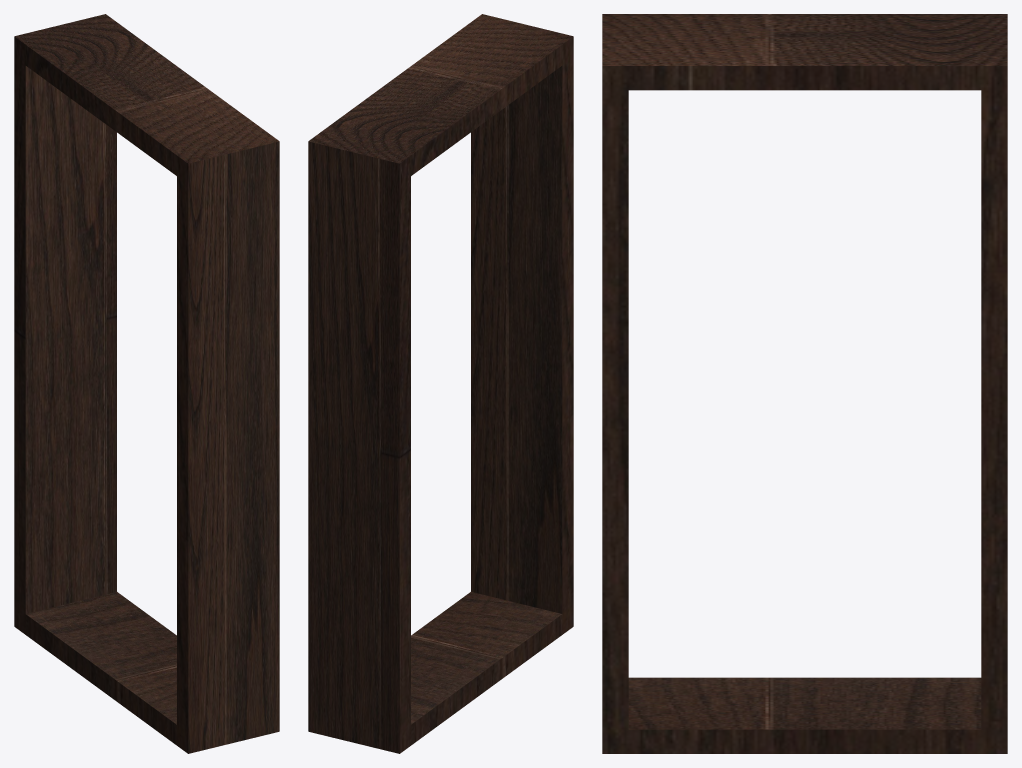
File: door_frame3.fbx
The picture shows the model from 3 angles, left to right: view 1: azimuth 30°, elevation 25°; view 2: azimuth 150°, elevation 25°; view 3: azimuth 270°, elevation 25°; orthographic projection. The views are drawn at different scales.
Parts seen in each view (by area): view 1: door_frame; view 2: door_frame; view 3: door_frame.
Boxes of the visible parts, bbox=[...] form: door_frame: bbox=[14, 14, 279, 753]; door_frame: bbox=[308, 14, 573, 753]; door_frame: bbox=[602, 14, 1007, 753].
Bounding box in the file's own units: 34.91 × 115 × 215.
Materials: 1 (1 with a texture image).
